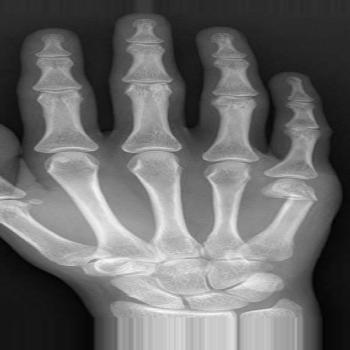Fracture: (258, 188, 323, 207)
